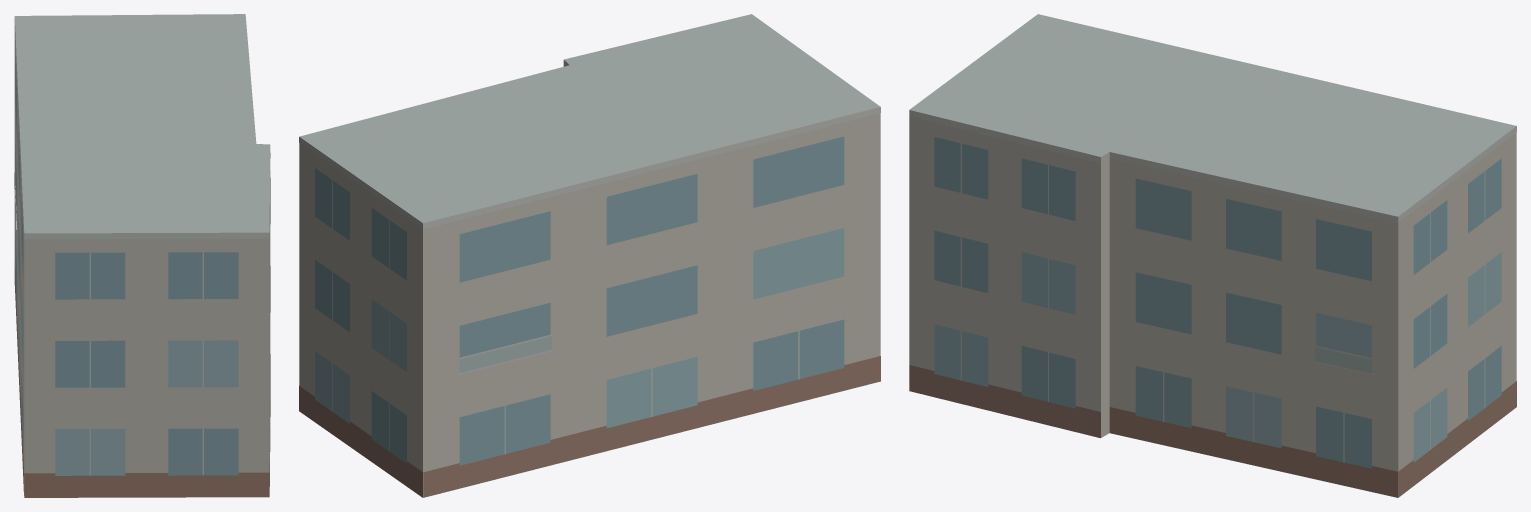
The model's file is survey-upis-33005711.glb.
The picture shows the model from 3 angles, left to right: view 1: azimuth 30°, elevation 25°; view 2: azimuth 150°, elevation 25°; view 3: azimuth 270°, elevation 25°; orthographic projection. The views are drawn at different scales.
Parts seen in each view (by area): view 1: survey-upis-33005711.tmp; view 2: survey-upis-33005711.tmp; view 3: survey-upis-33005711.tmp.
Part boxes in pixels (box(x1,y1,x2,y2)): survey-upis-33005711.tmp: box(14, 14, 270, 497); survey-upis-33005711.tmp: box(299, 14, 880, 497); survey-upis-33005711.tmp: box(909, 14, 1516, 497).
Size of the model in its own units: 16.55 by 10.7 by 20.96.
